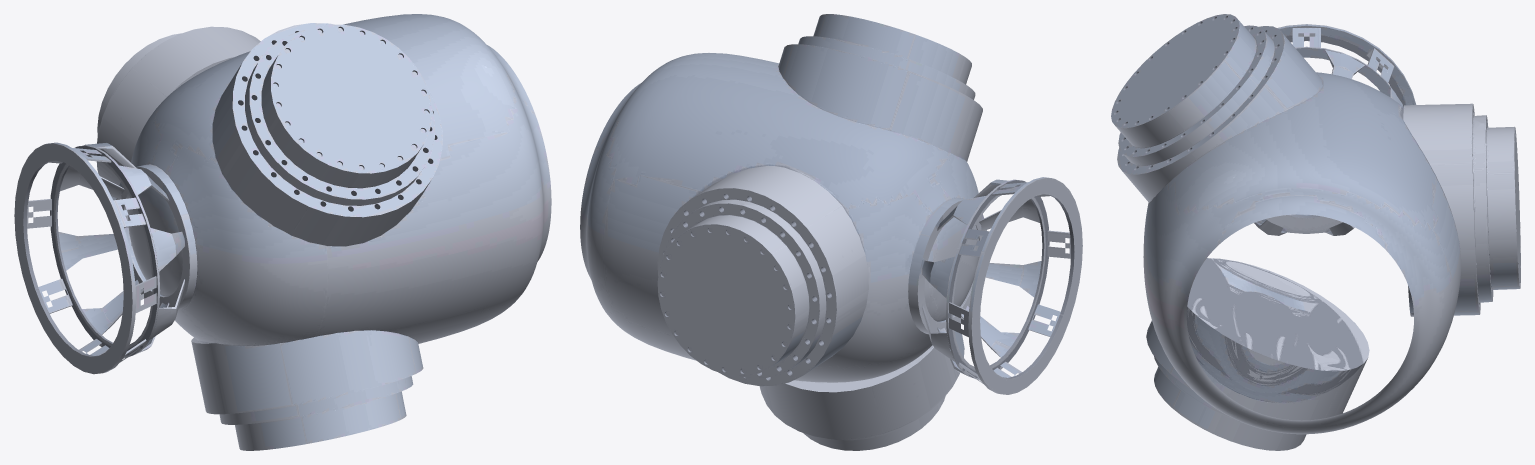
File: toubu.gltf
3 renders of one model, left to right at view 1: azimuth 30°, elevation 25°; view 2: azimuth 150°, elevation 25°; view 3: azimuth 270°, elevation 25°, orthographic. The views are drawn at different scales.
Visible parts, largest first — view 1: 空白, 风叶_1; view 2: 空白, 风叶_1; view 3: 空白, 风叶_1.
Part boxes in pixels (box(x1,y1,x2,y2)): 空白: box(14, 23, 442, 450); 风叶_1: box(128, 14, 551, 345); 空白: box(657, 14, 1082, 450); 风叶_1: box(580, 53, 978, 382); 空白: box(1111, 14, 1520, 450); 风叶_1: box(1143, 72, 1461, 434).
Size of the model in its own units: 11.02 by 10.83 by 9.83.
4 materials, 4 textured.
